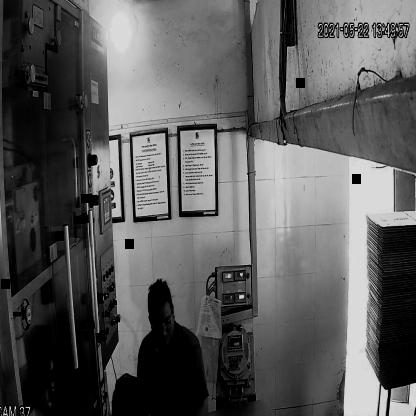goggles: (150, 318, 176, 339)
